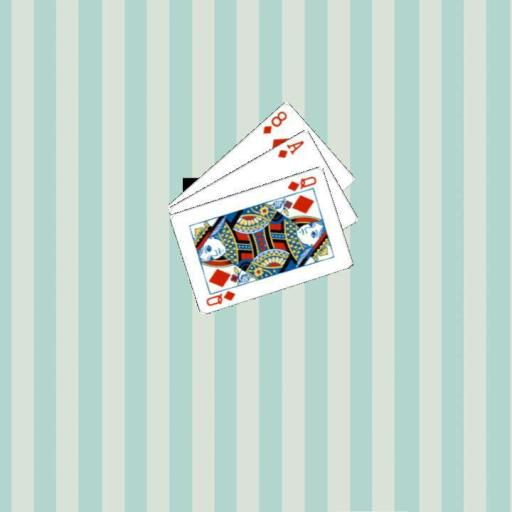card-corner: (260, 107, 288, 135), (274, 138, 306, 160), (284, 173, 318, 193), (202, 287, 236, 307)
